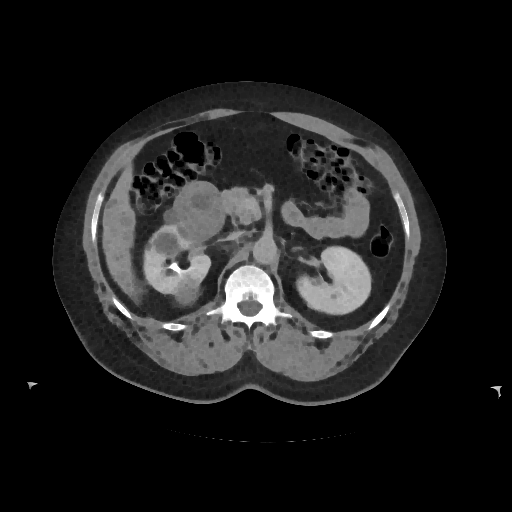Lesion: (171, 180, 232, 247)
